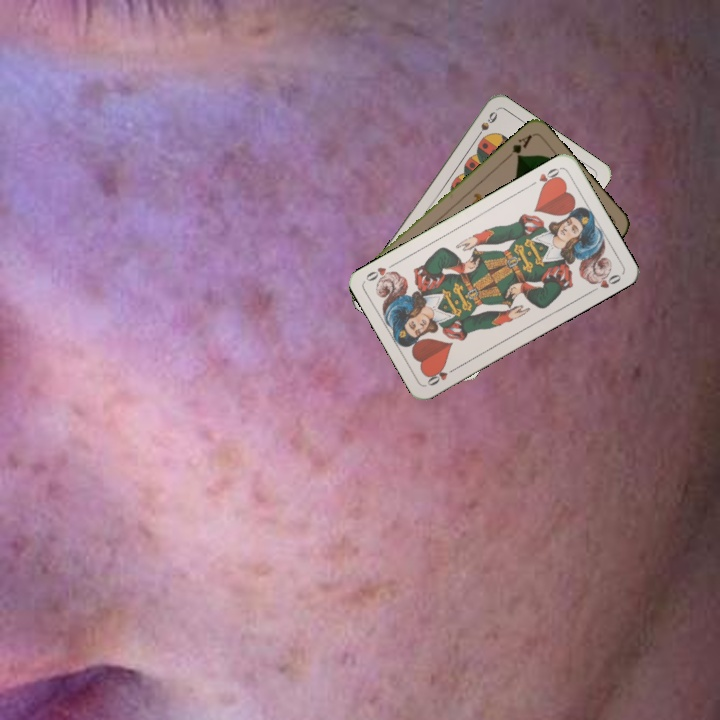GA: (503, 130, 535, 162)
HO: (526, 164, 563, 191), (423, 363, 460, 388)
S9: (471, 107, 500, 143)
